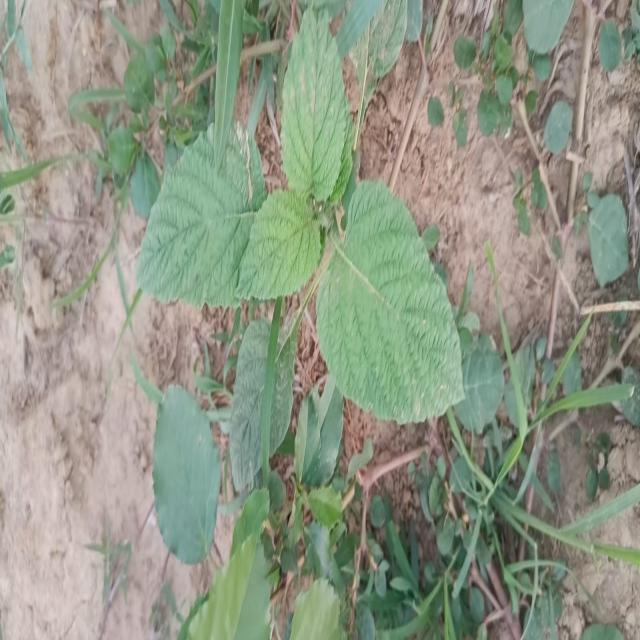plant: (137, 5, 464, 491)
